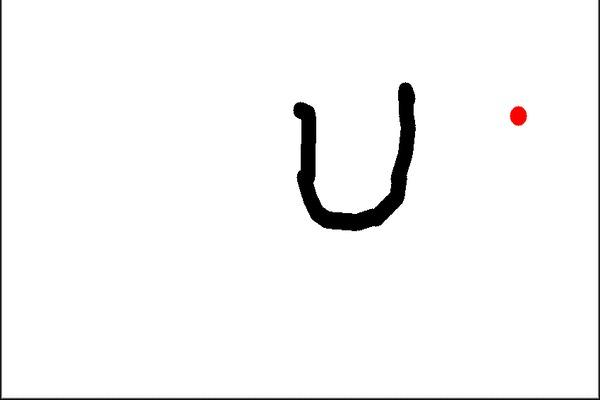U: (285, 68, 430, 233)
